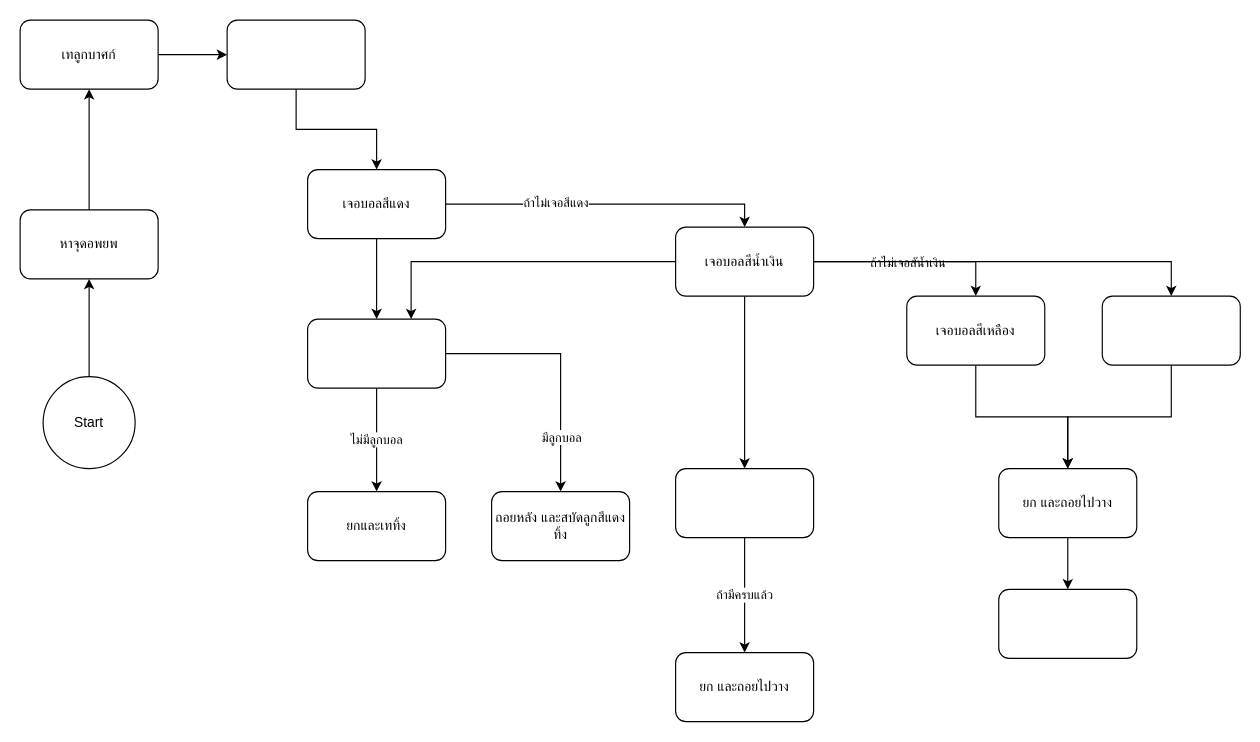
Image size: 1260x742. Some labels were removed from this diagram. Here are the shapes that lost their labels. From the top down, the box of each, then its label:
(226, 19, 365, 89): หาลูกบอล
(1101, 295, 1240, 365): เจอบอลสีเขียว
(306, 318, 446, 388): เช็คกระบะว่ามีลูกบอลมั้ย
(674, 467, 814, 538): เช็คสถานะลูกบอลในจุดอพยพ ว่าสีเขียวและเหลืองมั้ย
(998, 588, 1137, 658): บันทึกลงตัวแปร ว่าวางสีนั้นๆ ไปแล้ว
